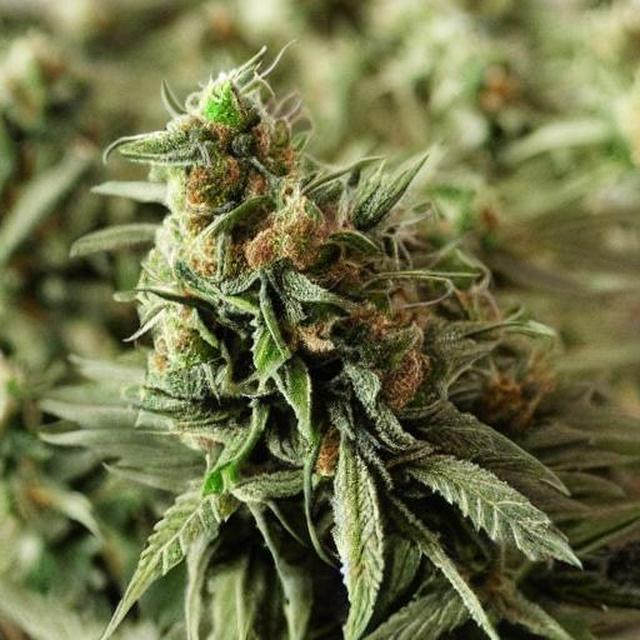Marijuana Plant: (0, 18, 640, 639)
